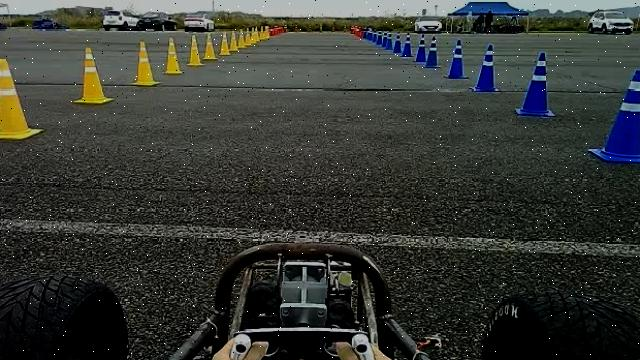blue cone: (588, 68, 640, 164), (515, 51, 556, 116), (472, 44, 502, 92), (444, 38, 470, 79), (423, 35, 442, 68), (415, 33, 427, 62), (401, 31, 413, 57), (393, 31, 403, 53)
yellow cone: (0, 57, 45, 140), (73, 47, 116, 103), (131, 40, 162, 86), (163, 35, 185, 75), (187, 34, 205, 66), (203, 31, 219, 60), (219, 31, 231, 55), (229, 29, 240, 51), (237, 29, 247, 49)
